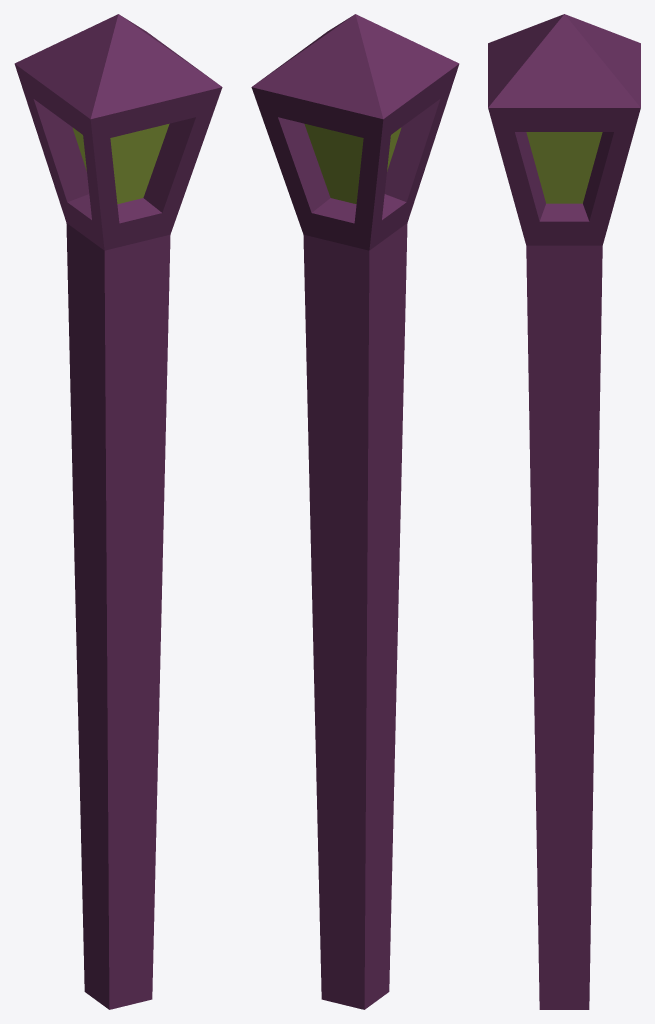
File: GreenWand.fbx
3 views of the same model, side by side, from view 1: azimuth 30°, elevation 25°; view 2: azimuth 150°, elevation 25°; view 3: azimuth 270°, elevation 25° (orthographic).
Parts seen in each view (by area): view 1: BastonVerde; view 2: BastonVerde; view 3: BastonVerde.
Part boxes in pixels (left/top/right/bottom): BastonVerde: left=14, top=14, right=222, bottom=1009; BastonVerde: left=251, top=14, right=459, bottom=1009; BastonVerde: left=488, top=14, right=640, bottom=1009.
Size of the model in its own units: 22.5 by 160 by 22.5.
